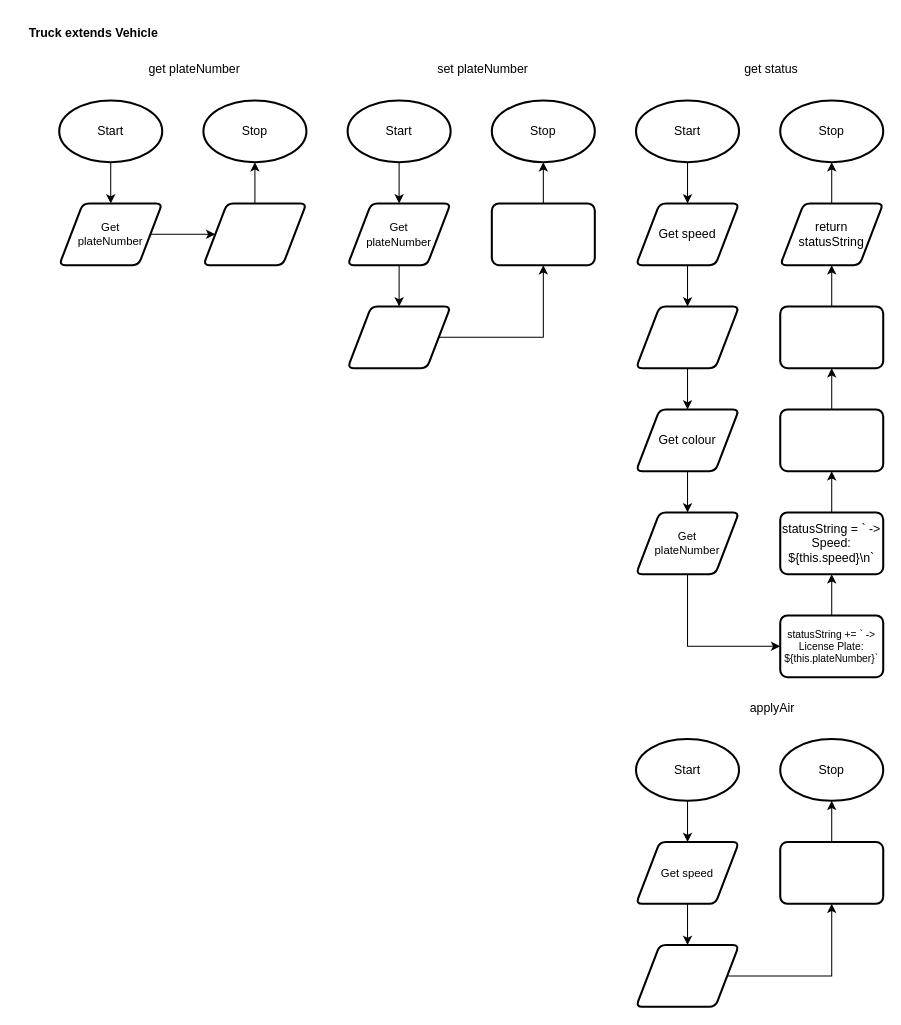
This 901x1025 diagram has some shape labels left out. The centre of each missing label's shape, as x and y in pixels:
Get airPressure: the point at 687,975
Get maxSpeed: the point at 687,337
Get newPlateNumber: the point at 398,337
return this.plateNumber: the point at 254,234
statusString = ` -> Color: ${this.colour}`: the point at 831,337
statusString = ` -> MaxSpeed: ${this.maxSpeed}\n`: the point at 831,440
this.plateNumber = newPlateNumber: the point at 542,234
this.speed = this.speed - airPressure / 2: the point at 831,872
